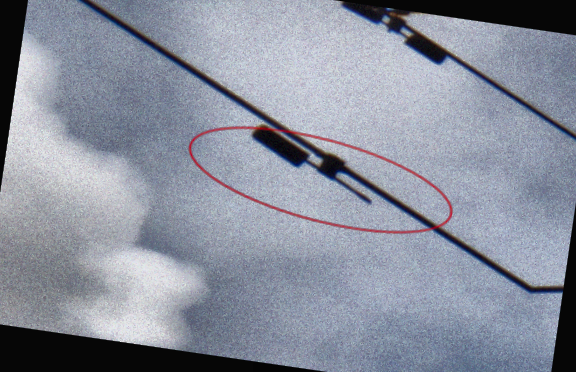damper: (338, 2, 451, 66)
damper_defect: (250, 121, 374, 207)
